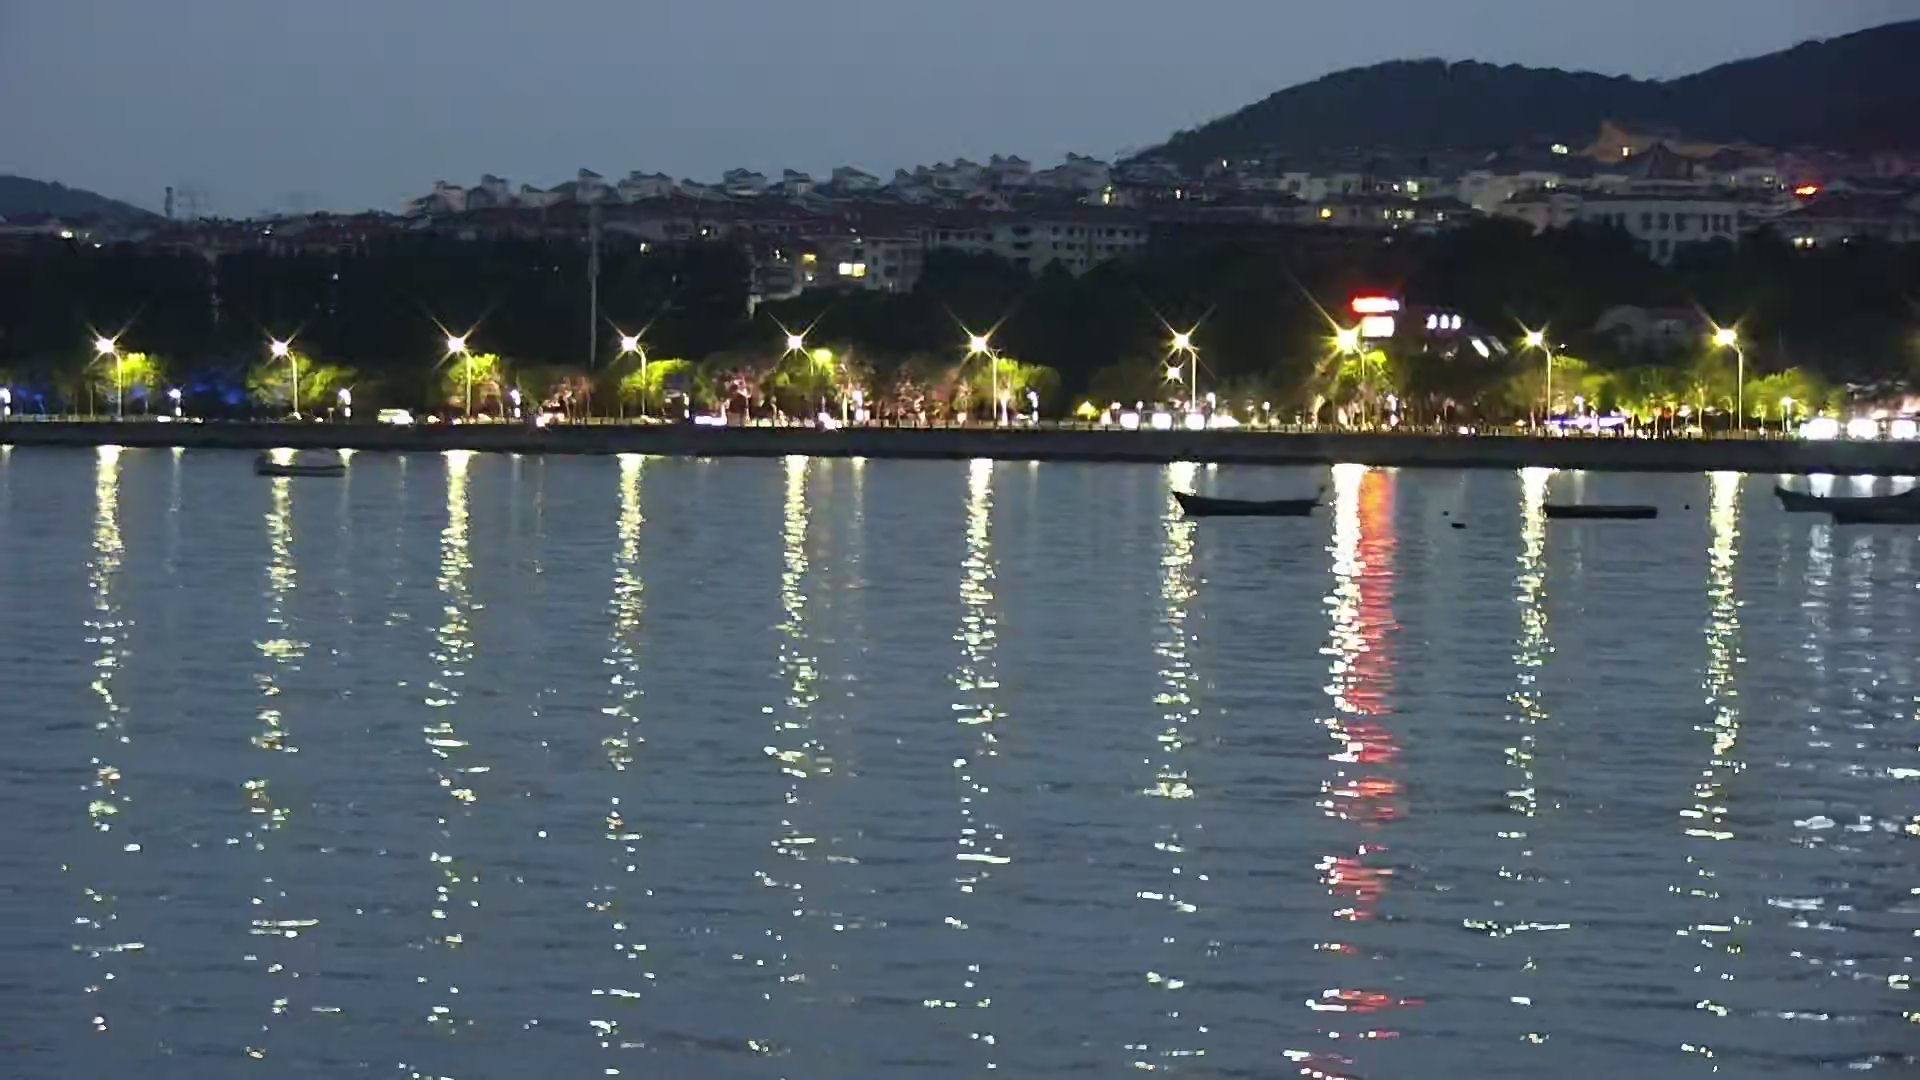boat: (1774, 475, 1920, 524), (1164, 489, 1327, 529), (244, 454, 363, 488), (1536, 498, 1672, 518)
